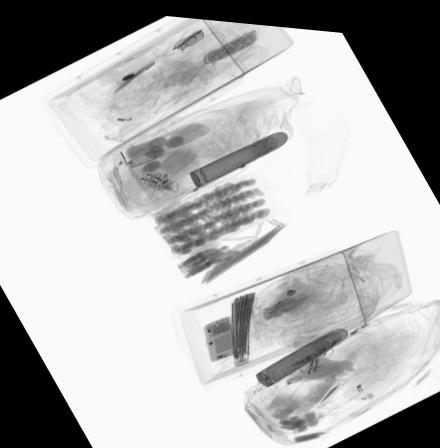Lighter: (264, 285, 295, 310)
